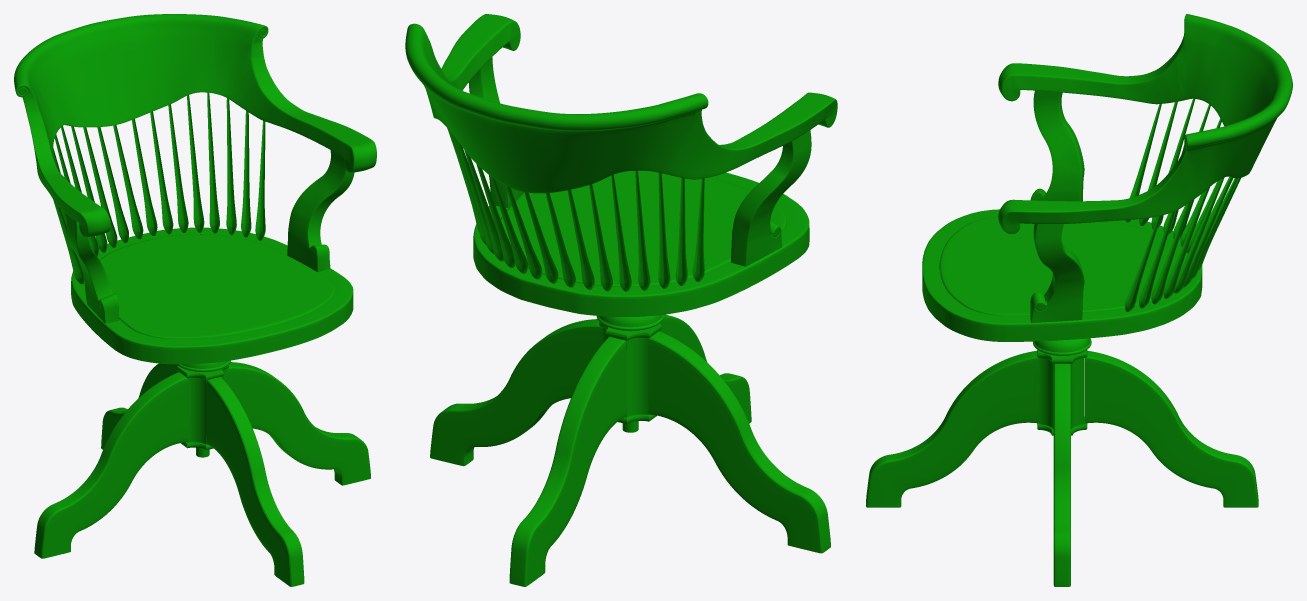
The model's file is Tiler_Chair_High_3_Collision.fbx.
3 renders of one model, left to right at view 1: azimuth 30°, elevation 25°; view 2: azimuth 150°, elevation 25°; view 3: azimuth 270°, elevation 25°, orthographic. The views are drawn at different scales.
Parts seen in each view (by area): view 1: Chair; view 2: Chair; view 3: Chair.
Part boxes in pixels (x1,y1,x2,y2): Chair: (14, 14, 376, 586); Chair: (405, 14, 837, 586); Chair: (866, 14, 1292, 586).
Size of what is drawn, in the model's own units: 29.86 by 36.01 by 32.47.
